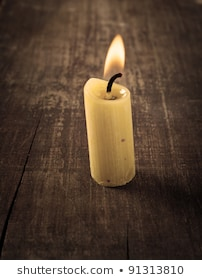Fire: (101, 34, 127, 87)
